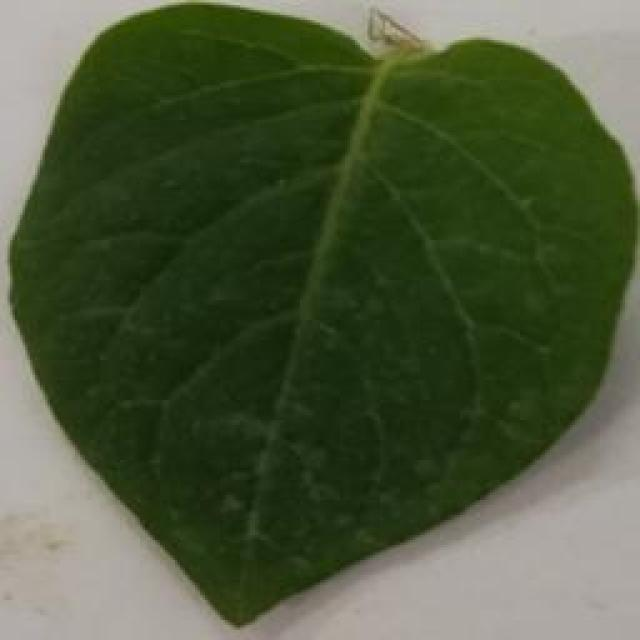Potato_Healthy: (8, 6, 630, 628)
